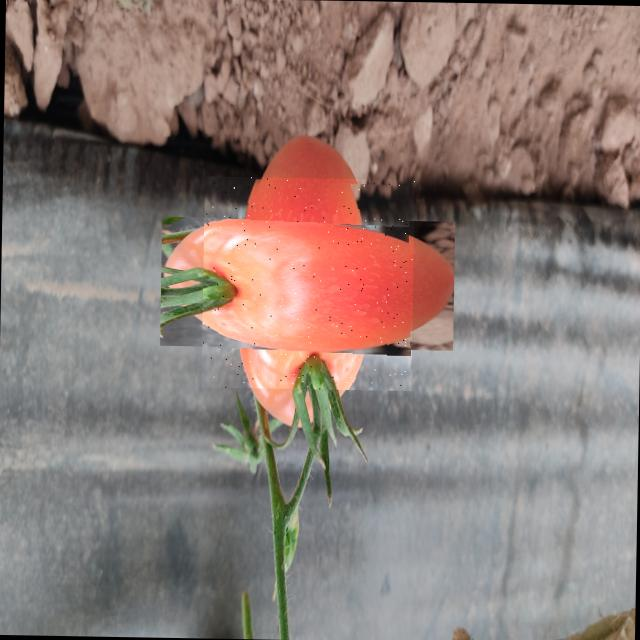Ripe Tomato: (200, 176, 414, 391)
